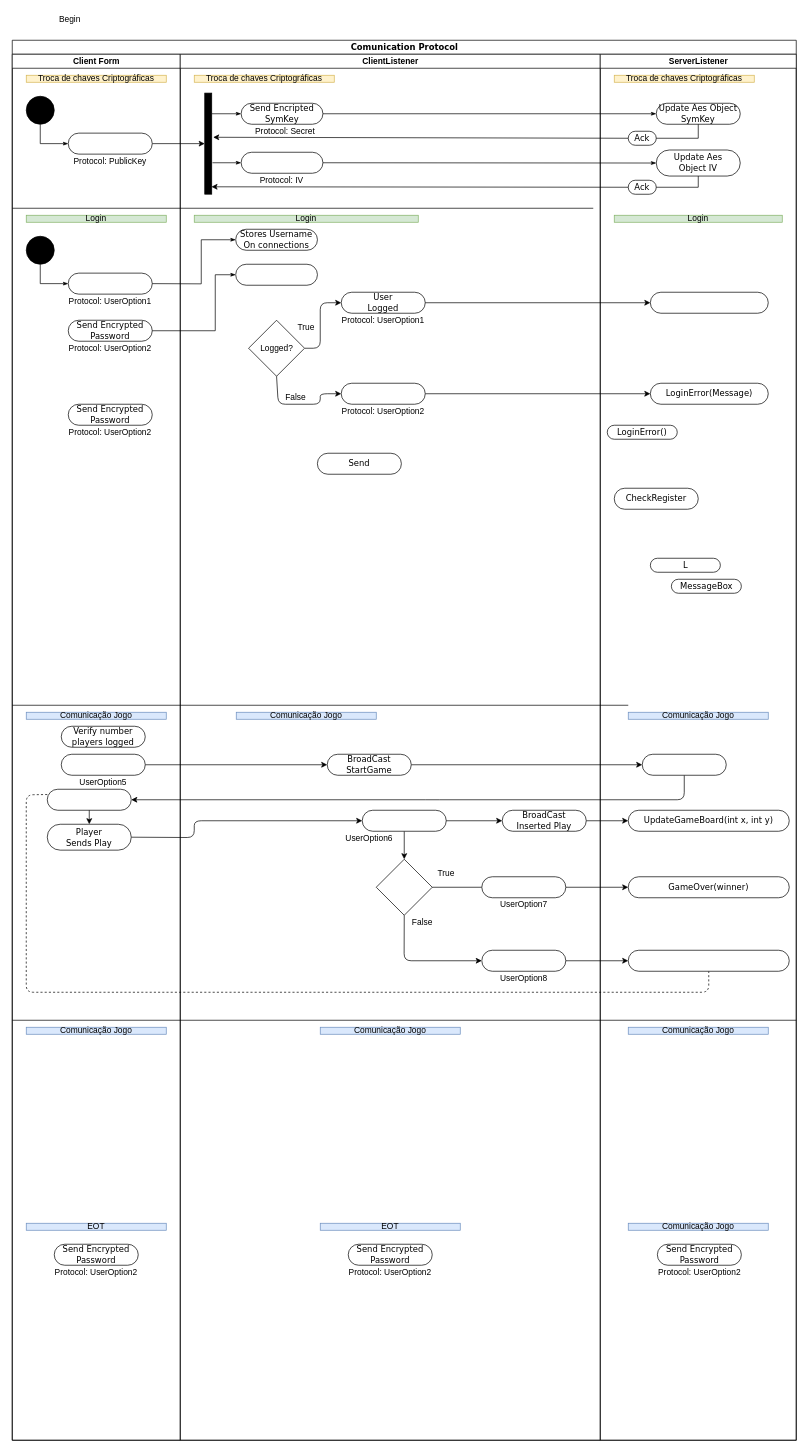
The diagram is 809 pixels wide and 1453 high, and some of its shapes have lost their labels. The shapes that lost their labels are listed below. From the top down, each one's centre as x and y in pixels, then its label:
[110,143]: Send Public Key
[281,162]: Send Encrypted IV
[110,283]: Send Encripted Username
[276,274]: Stores Password On connections
[709,302]: LoginOK(Message)
[383,393]: User NotLogged
[103,764]: Start Game
[684,764]: StartGame()
[89,799]: 1st Player Gets turn
[404,820]: Insert Play on GameBoard
[404,887]: Game Over
[523,887]: BroadCast GO - WINNER
[523,960]: BroadCast Next PLayer
[708,960]: Next Player(user)
